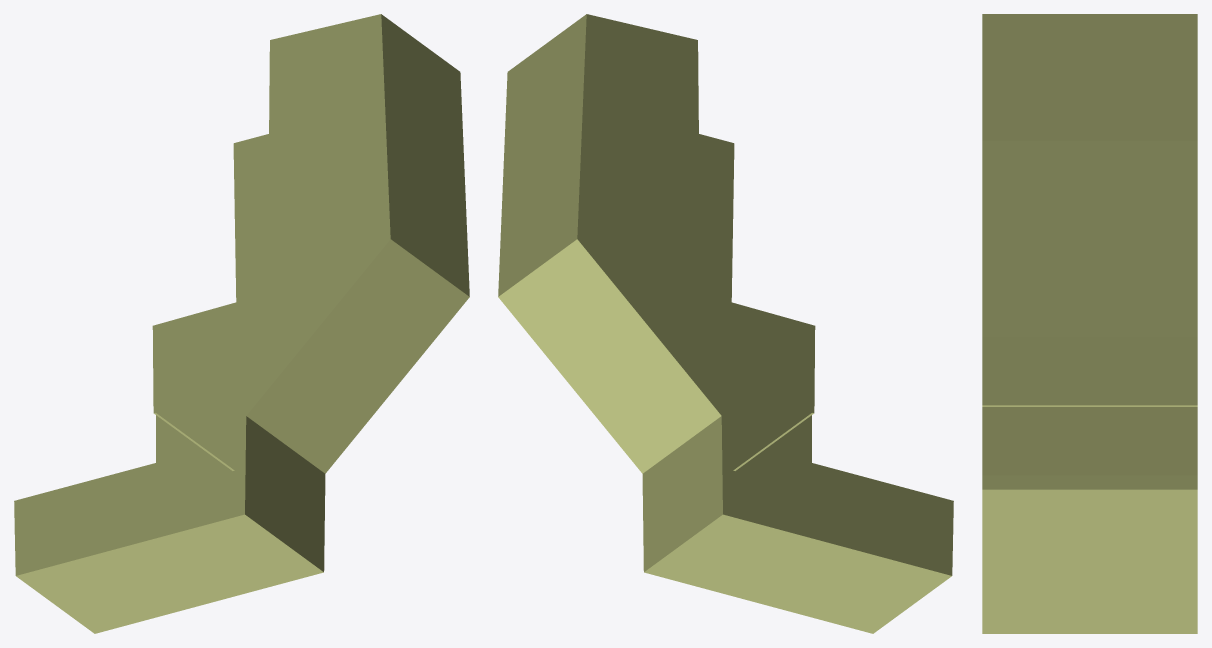
3 views of the same model, side by side, from view 1: azimuth 30°, elevation 25°; view 2: azimuth 150°, elevation 25°; view 3: azimuth 270°, elevation 25° (orthographic). The views are drawn at different scales.
Visible parts, largest first — view 1: 0_0_2_0_0_1_1_0_1; view 2: 0_0_2_0_0_1_1_0_1; view 3: 0_0_2_0_0_1_1_0_1.
Boxes of the visible parts, x1,y1,x2,y2 form: 0_0_2_0_0_1_1_0_1: (14, 14, 469, 633); 0_0_2_0_0_1_1_0_1: (498, 14, 953, 633); 0_0_2_0_0_1_1_0_1: (982, 14, 1197, 633).
Size of the model in its own units: 24.71 by 29.72 by 9.
